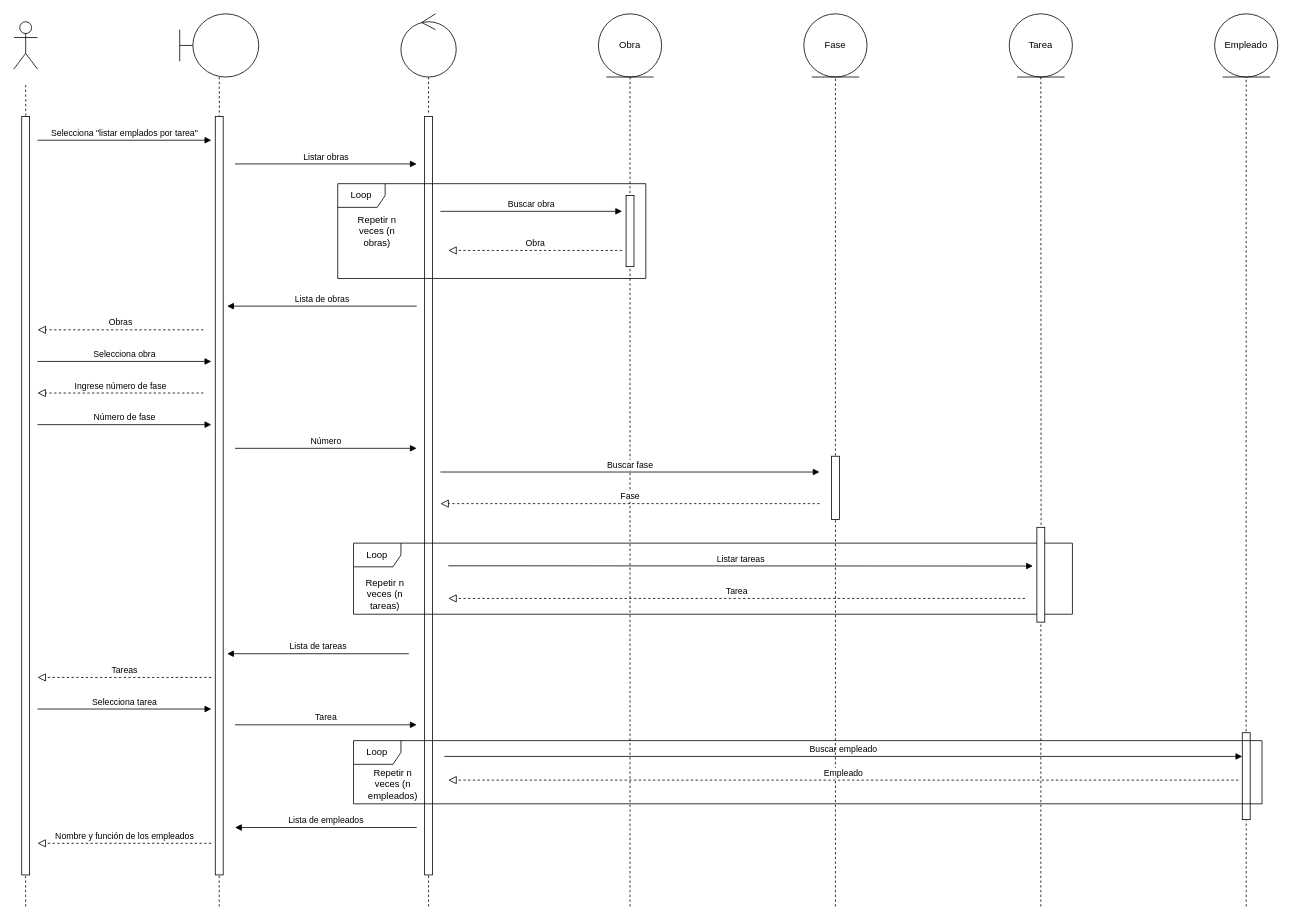
This 1292x921 diagram has some shape labels left out. The shapes that lost their labels are listed below. From the top down, each one's centre as x and y in pixels, then its label:
At point (25, 45): "Actor".
At point (219, 45): "Interfaz".
At point (428, 45): "Control obra".
